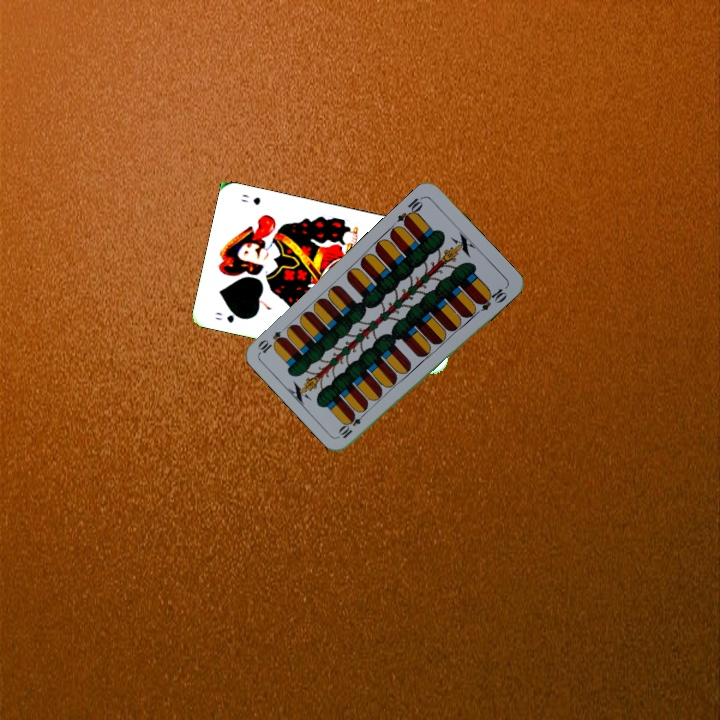E10: (393, 193, 426, 228), (336, 407, 369, 441)
GO: (211, 308, 248, 325)
